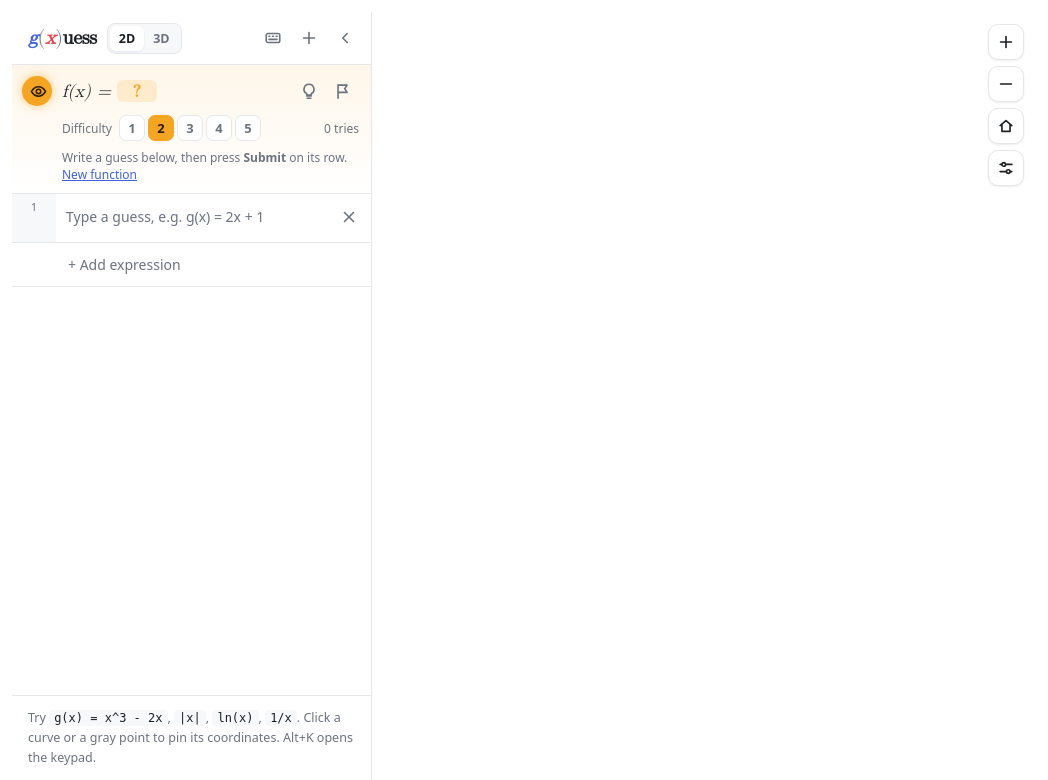
game mode in the app › shows hints progressively and reveals on give-up
The width and height of the screenshot is (1048, 780).
Click the button named "Hint": [309, 91] box [293,75,325,107]
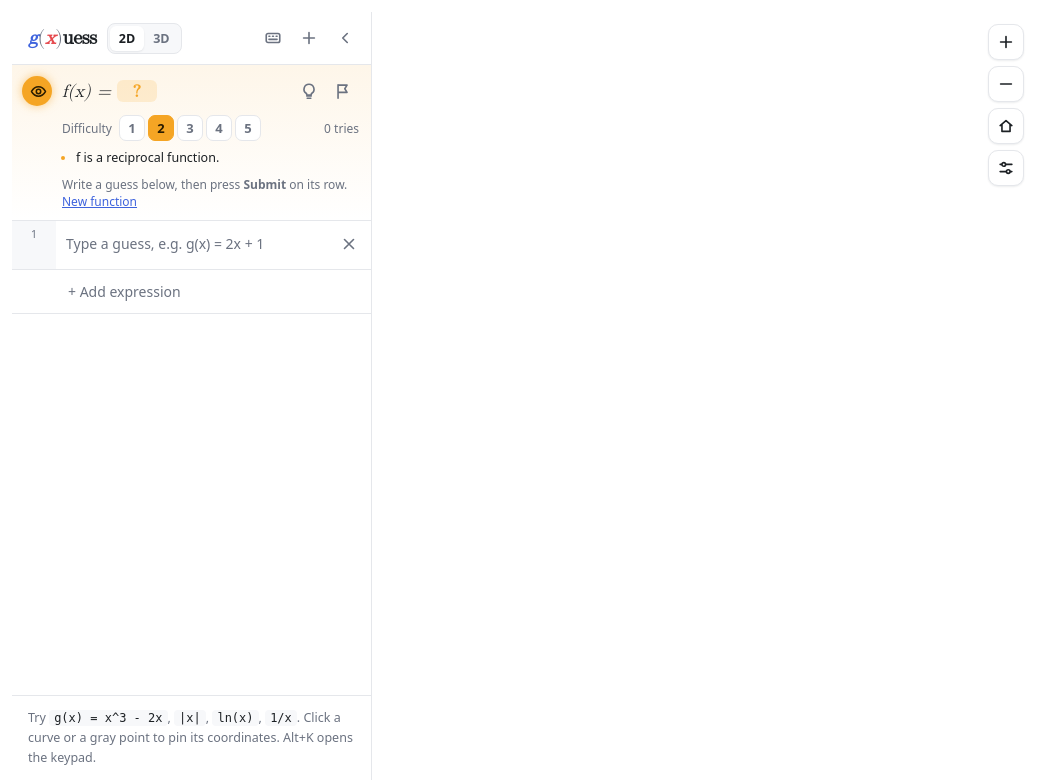
Click the button named "Give up and reveal f(x)": [343, 91] box [327,75,359,107]
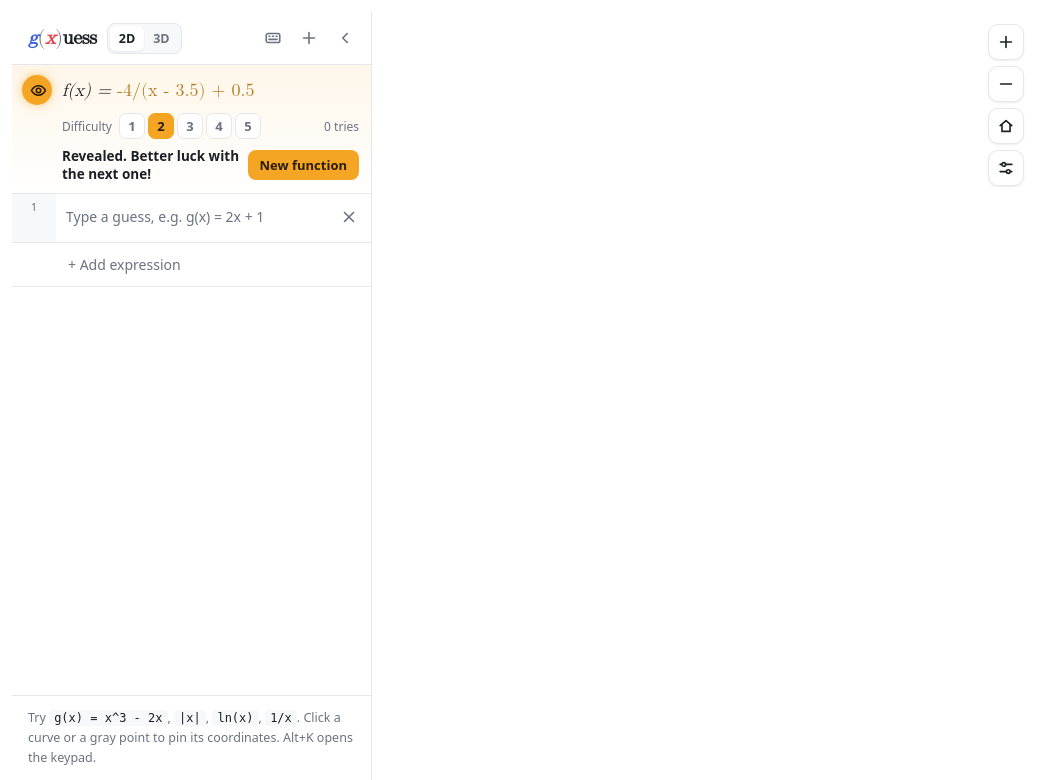
Expected: the text "Revealed. Better luck with the next one!" is shown, [62,147,240,183]
Click the button "New function": [303, 165] box [248,150,359,180]
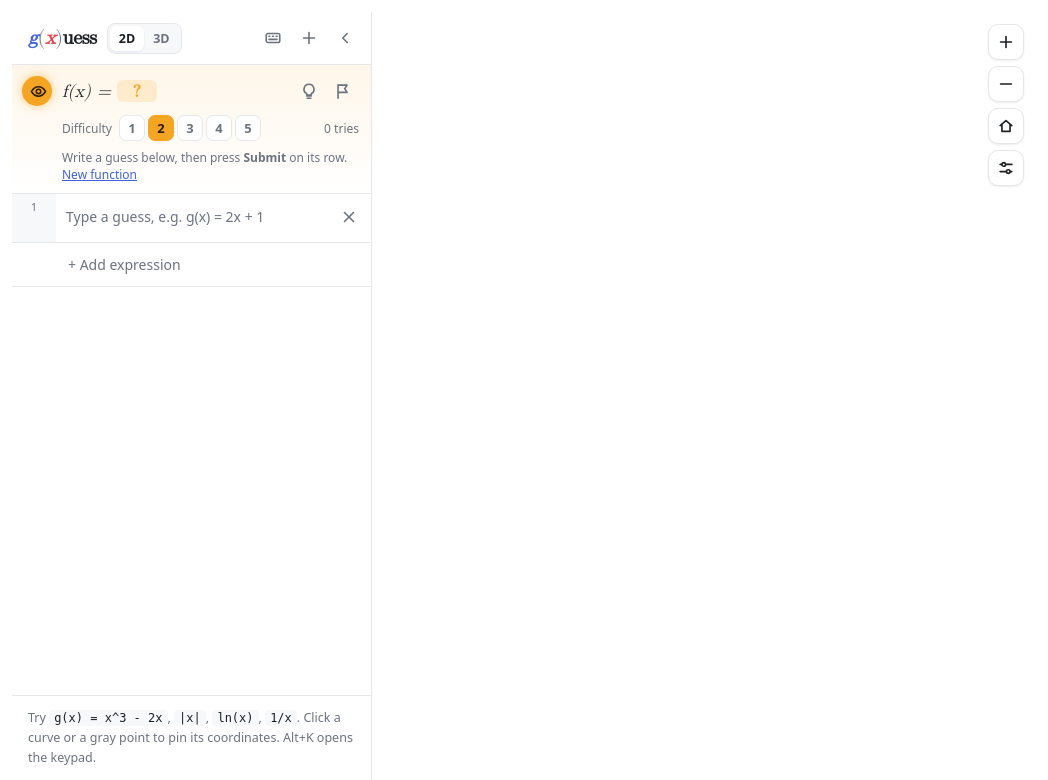
Expected: the element with test id "target-formula" reads "f(x) = ?", [62,80,157,102]
